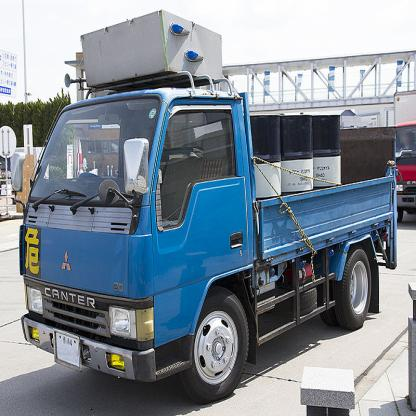truck: (11, 93, 398, 397)
